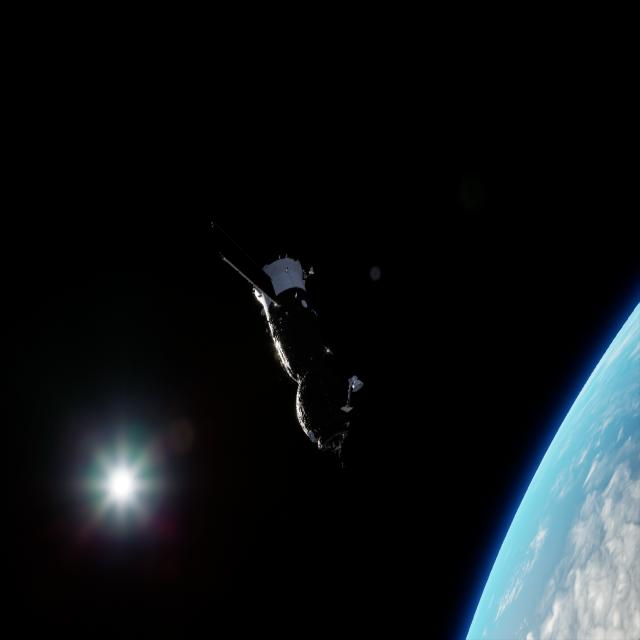Satellites revolving around earth: (208, 216, 366, 459)
